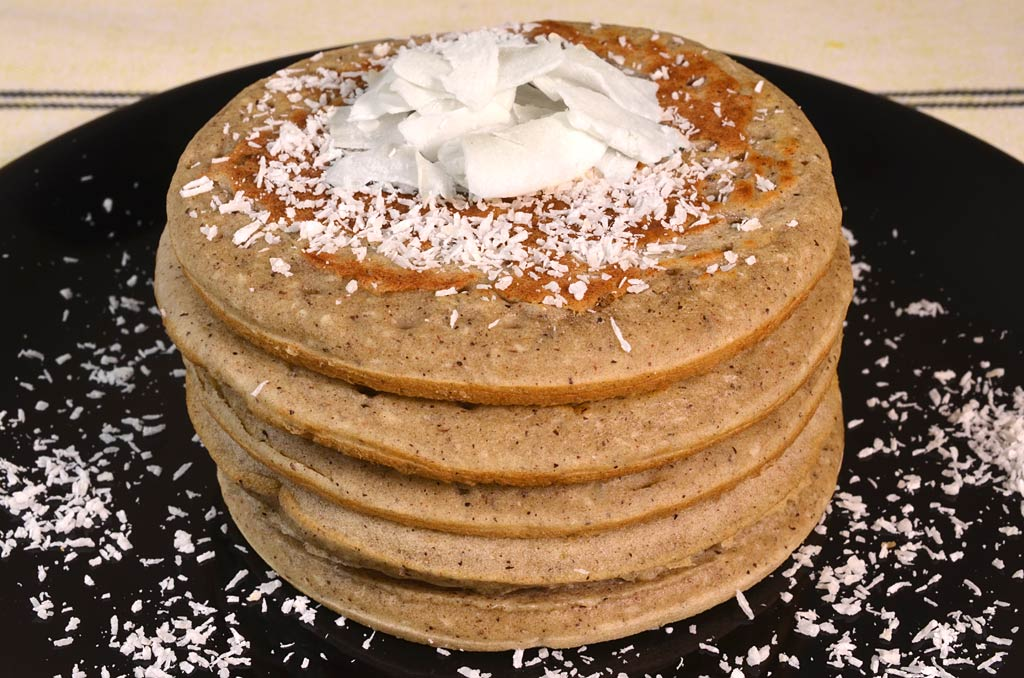Noix de coco: (245, 22, 814, 337)
Pancakes: (93, 12, 952, 663)
